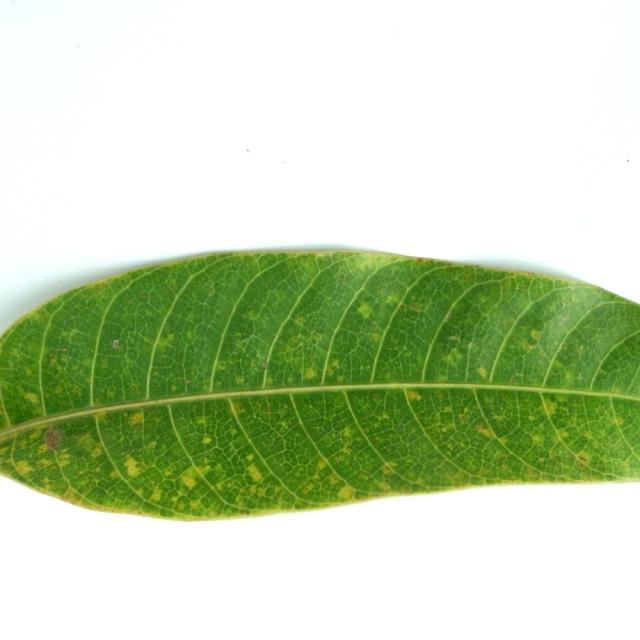Mango: (0, 252, 639, 518)
Powdery_Mildew: (173, 469, 206, 493), (123, 456, 142, 477), (443, 349, 463, 367), (246, 463, 263, 482), (15, 460, 32, 477), (542, 398, 558, 416), (62, 486, 80, 501), (476, 424, 496, 437), (356, 302, 372, 318), (337, 485, 354, 500), (549, 359, 564, 373), (385, 293, 401, 306), (524, 466, 540, 479), (444, 334, 464, 344), (129, 412, 144, 425), (24, 392, 40, 404), (150, 487, 163, 501), (577, 452, 591, 465), (245, 308, 260, 320), (406, 391, 422, 401), (68, 328, 82, 339), (213, 362, 226, 373), (342, 426, 354, 437), (309, 471, 321, 482), (381, 464, 394, 474), (317, 459, 328, 470), (91, 447, 102, 458), (530, 329, 541, 340), (229, 403, 240, 414), (478, 366, 488, 378), (531, 434, 543, 444), (409, 303, 422, 312), (305, 368, 315, 379), (96, 410, 107, 420), (29, 431, 40, 441), (557, 314, 568, 324), (370, 333, 382, 342), (558, 430, 569, 439), (329, 475, 340, 484), (379, 482, 390, 491), (294, 317, 305, 326), (185, 330, 194, 341), (437, 375, 449, 383), (237, 508, 250, 515), (202, 436, 212, 445), (265, 376, 274, 386), (165, 333, 175, 342), (303, 484, 313, 493), (50, 354, 59, 364), (38, 445, 48, 454), (10, 348, 20, 357), (1, 446, 11, 455), (109, 470, 120, 478), (196, 417, 207, 425), (557, 394, 568, 402), (148, 441, 157, 450), (584, 430, 593, 439), (235, 375, 244, 384), (442, 407, 453, 414), (246, 453, 255, 461), (330, 359, 339, 367), (576, 346, 585, 354), (372, 420, 381, 428), (55, 385, 64, 393), (25, 368, 34, 376), (145, 309, 154, 317), (112, 339, 120, 348), (163, 469, 173, 476), (280, 419, 288, 427), (107, 390, 115, 398), (168, 282, 176, 290), (381, 413, 390, 420), (615, 417, 624, 424), (440, 426, 448, 433), (523, 343, 531, 350), (599, 368, 607, 375), (338, 273, 345, 281), (230, 428, 237, 435), (171, 384, 178, 391), (74, 385, 81, 392), (208, 286, 215, 293), (445, 313, 452, 320), (262, 361, 268, 369), (459, 414, 466, 420), (538, 457, 545, 463), (438, 393, 445, 399), (416, 258, 424, 263), (337, 376, 343, 382), (185, 379, 191, 385), (266, 407, 271, 413), (510, 379, 516, 384), (62, 347, 67, 352)
